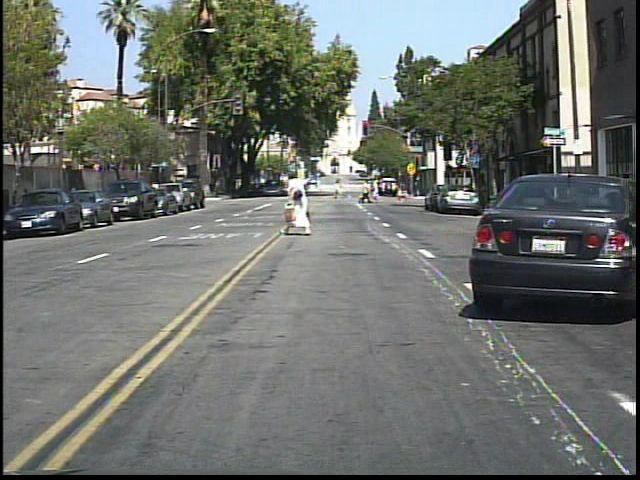person: (282, 167, 317, 239), (618, 163, 637, 230), (513, 167, 534, 225), (358, 177, 376, 207), (372, 177, 384, 205)
